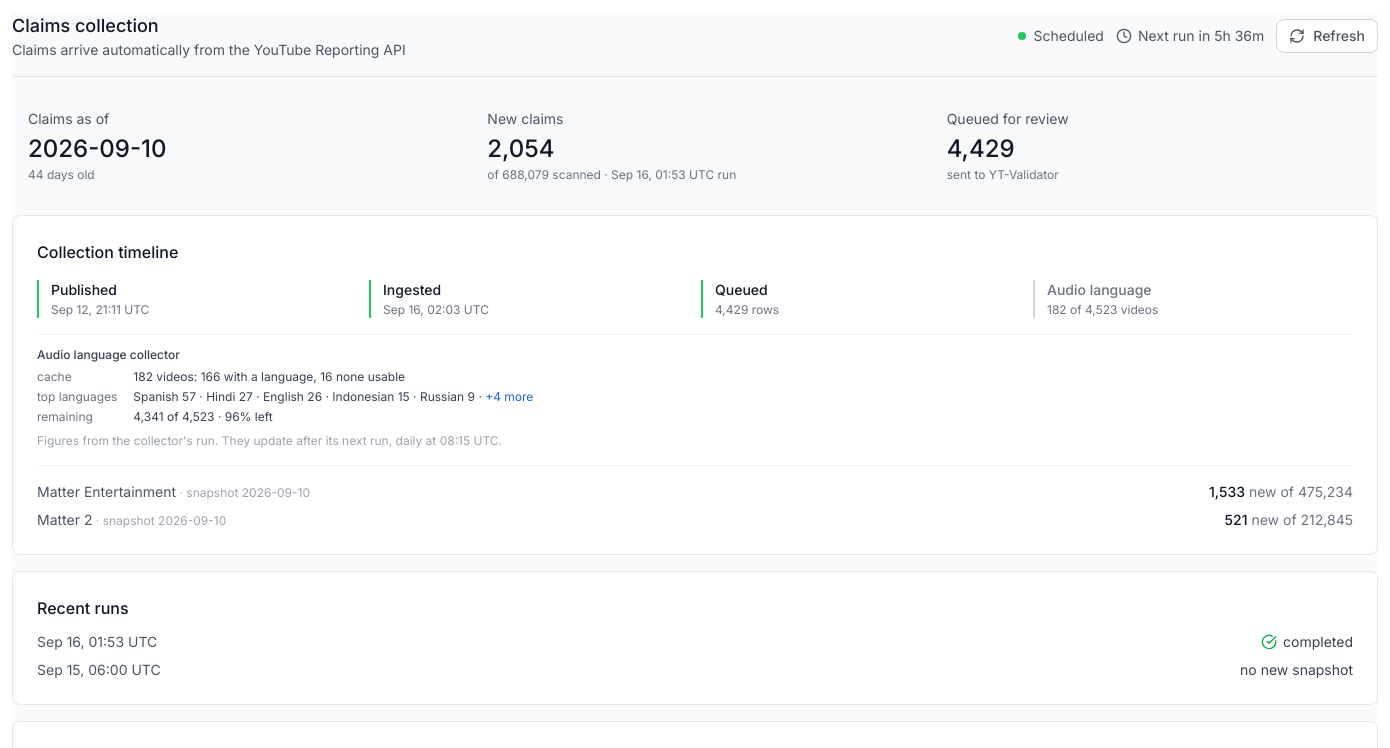
it: ClaimsCollectionTab › should reveal the remaining languages on request, and fold them back
Click the button "+4 more": click(509, 397) top-left (485, 389), bottom-right (533, 405)
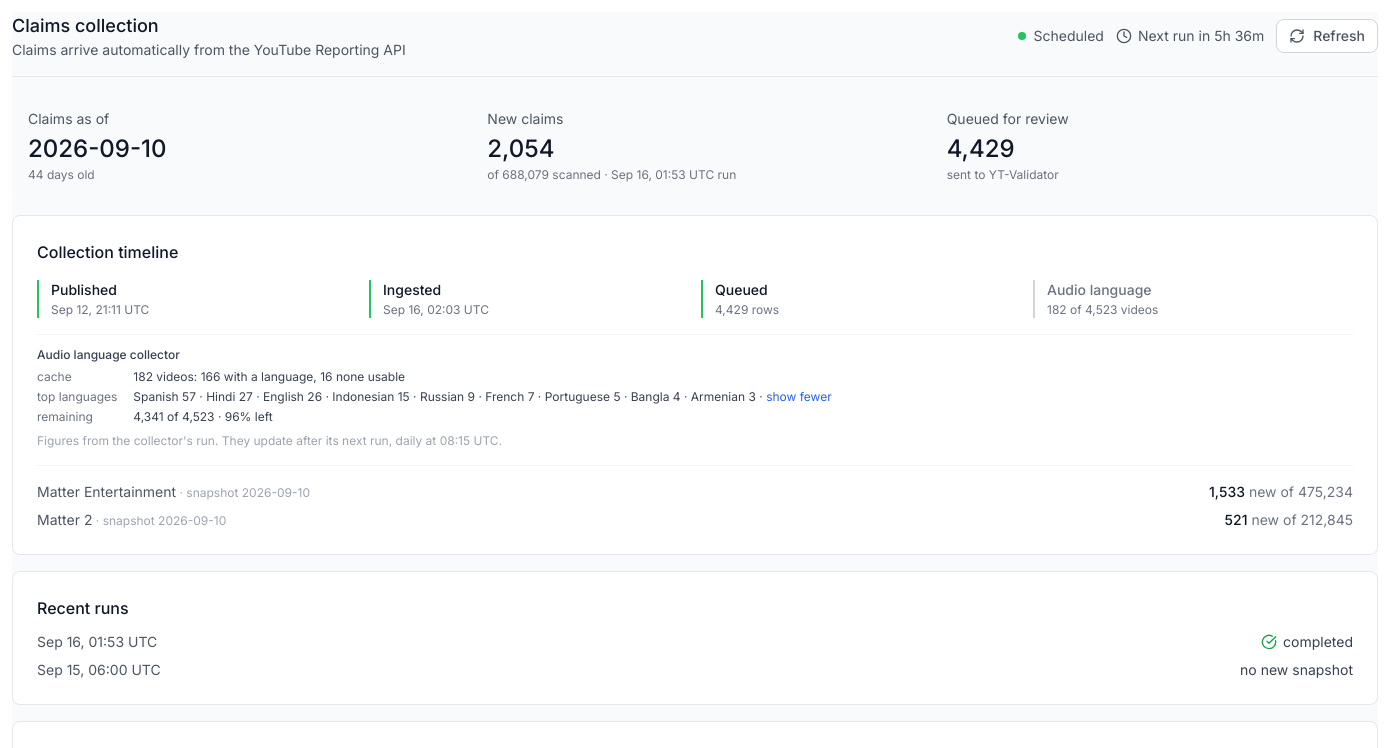
Click the button "show fewer": click(799, 397) top-left (766, 389), bottom-right (832, 405)
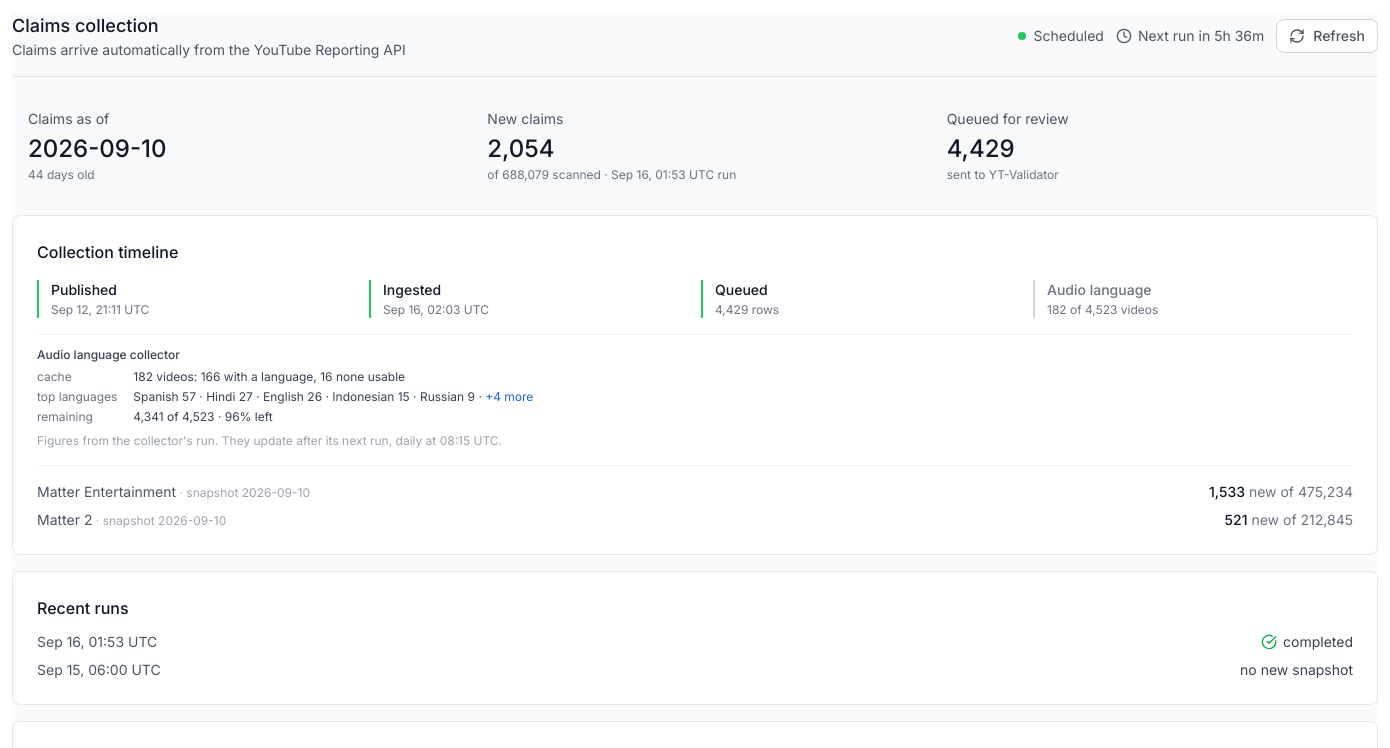
Now the text titled "hy" is gone
Now the button "+4 more" is shown, box top-left (485, 389), bottom-right (533, 405)
